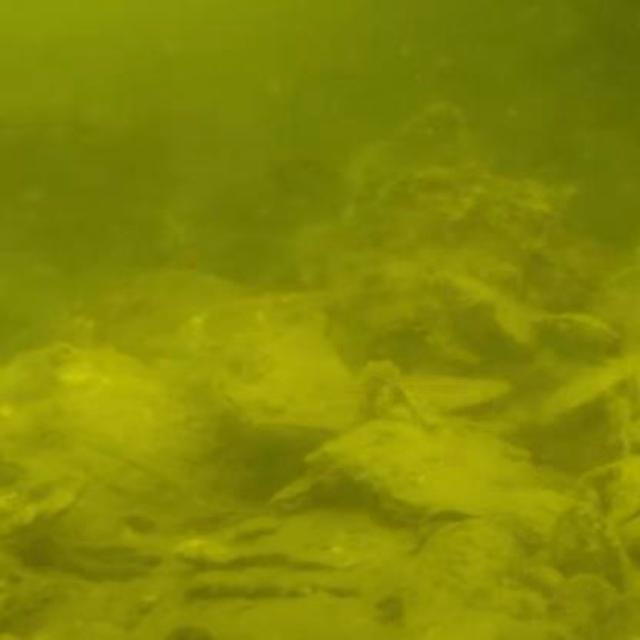Oyster-Closed: (313, 410, 542, 527), (195, 314, 365, 442)
